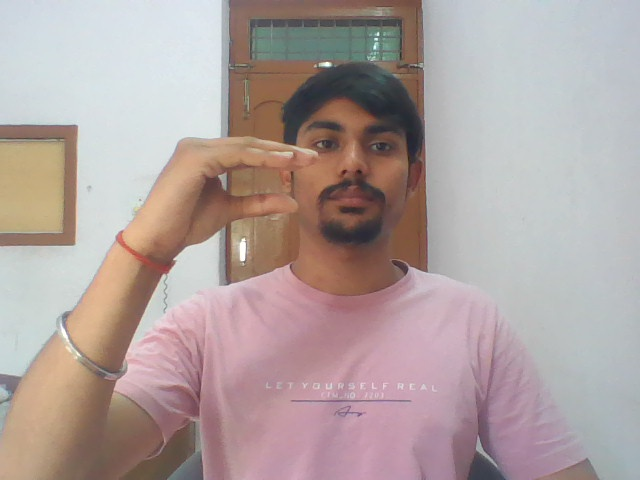No: (141, 122, 320, 247)
